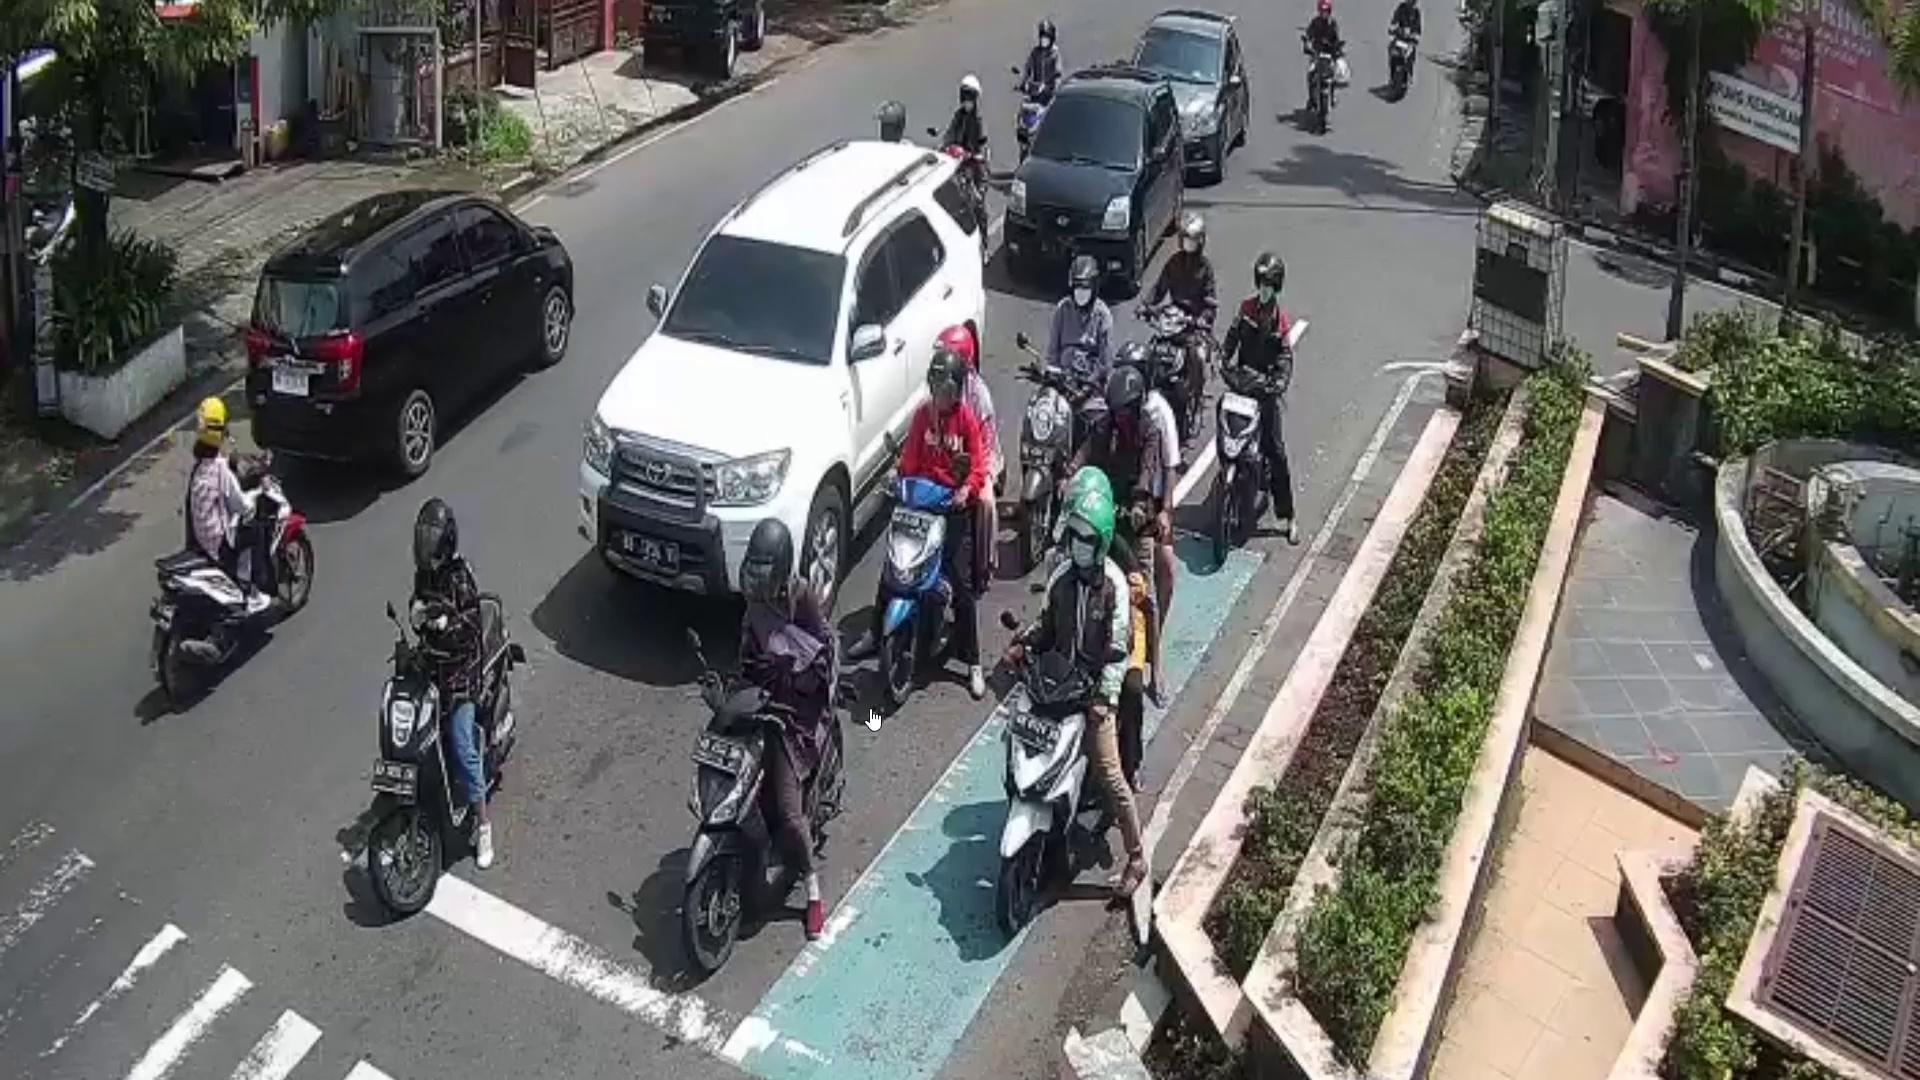car: (578, 135, 982, 632), (247, 190, 574, 480), (1002, 67, 1184, 298), (1124, 8, 1250, 181)
motorbike: (682, 633, 840, 975), (382, 589, 521, 914), (150, 452, 314, 709), (1002, 651, 1097, 932), (886, 473, 955, 703), (1212, 360, 1276, 564), (1015, 365, 1072, 564)
